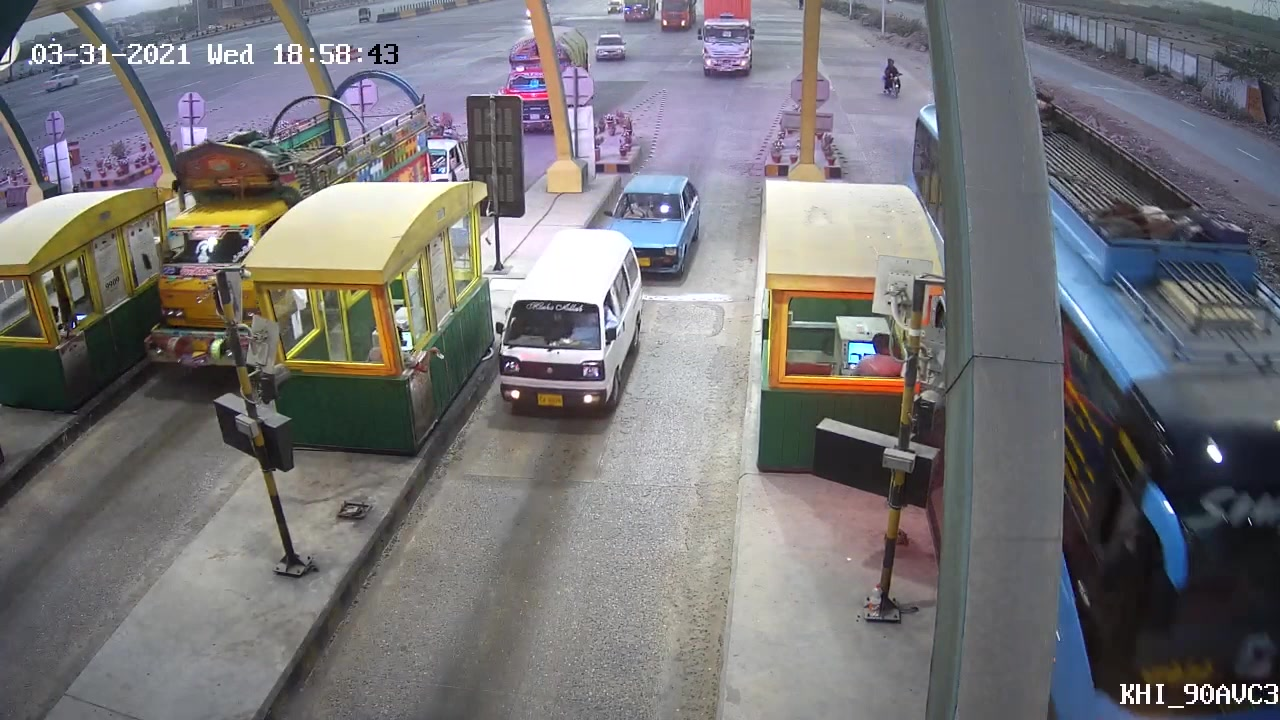F1: (491, 222, 644, 432)
